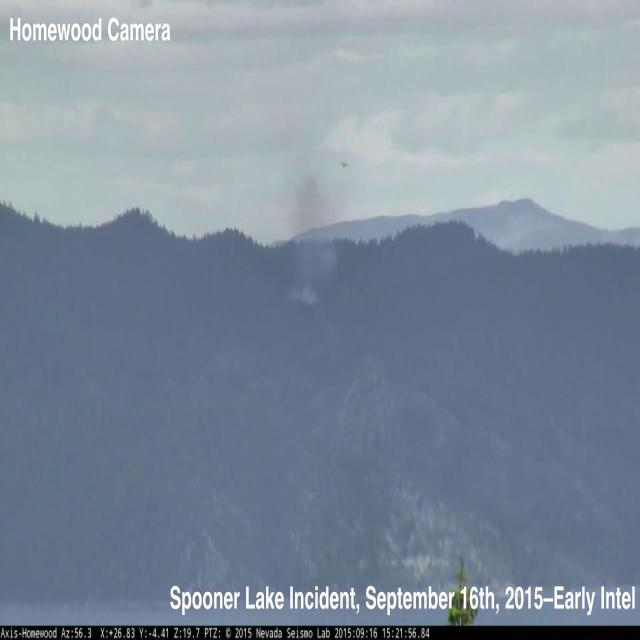smoke: (288, 148, 336, 315)
